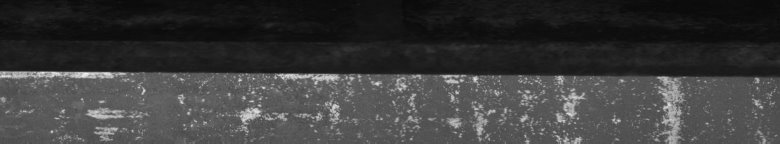kb: (4, 64, 364, 136)
